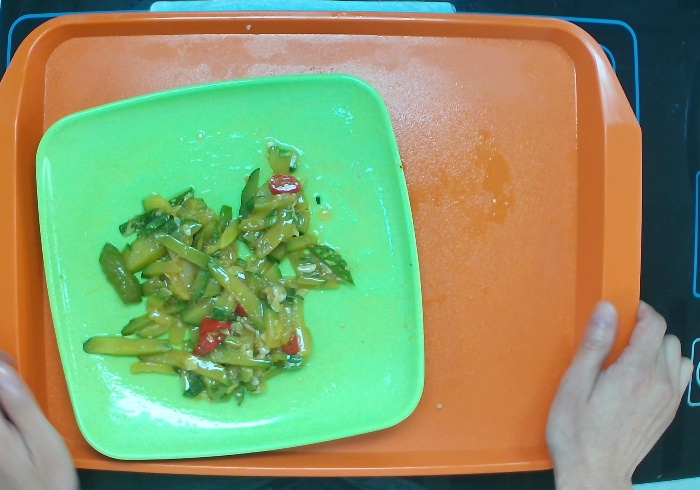ZNLD-Lv_Fang_Pan: (9, 64, 434, 476)
